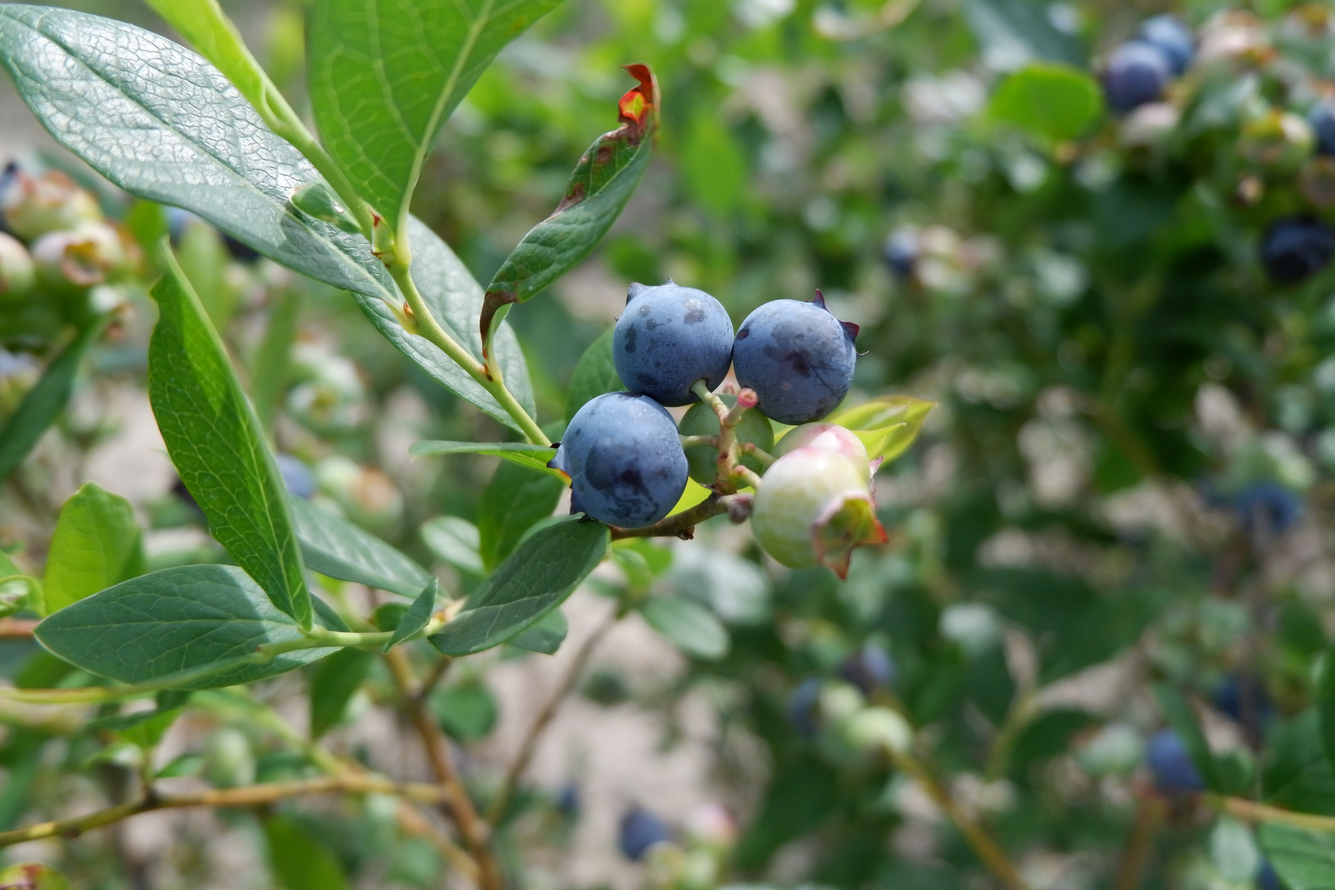Immature: (754, 442, 884, 575), (685, 393, 770, 492), (779, 425, 868, 474)
Mature: (557, 394, 684, 526), (735, 299, 854, 420), (615, 286, 730, 402)
